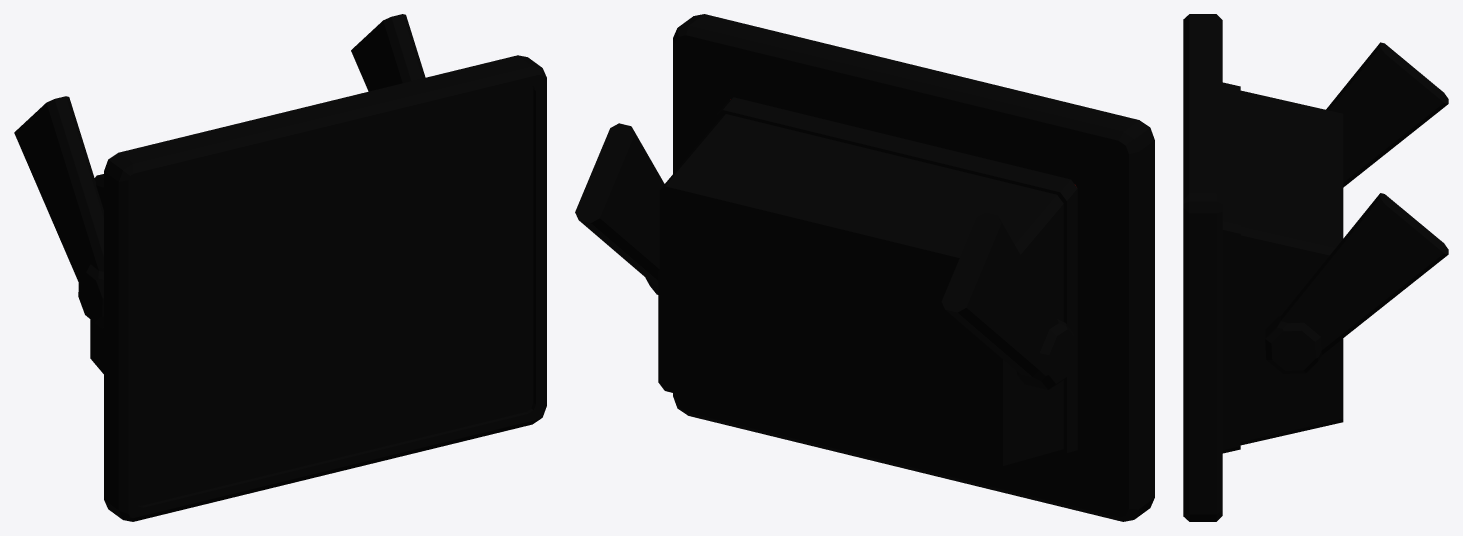
Rendered from BoatRadar.glb.
3 renders of one model, left to right at view 1: azimuth 30°, elevation 25°; view 2: azimuth 150°, elevation 25°; view 3: azimuth 270°, elevation 25°, orthographic. The views are drawn at different scales.
Visible parts, largest first — view 1: BoatRadar; view 2: BoatRadar; view 3: BoatRadar.
Boxes of the visible parts, x1,y1,x2,y2 form: BoatRadar: (14, 14, 546, 521); BoatRadar: (575, 14, 1154, 521); BoatRadar: (1183, 14, 1448, 521).
Bounding box in the file's own units: 0.3 × 0.24 × 0.1756.
Materials: 1 (1 with a texture image).
